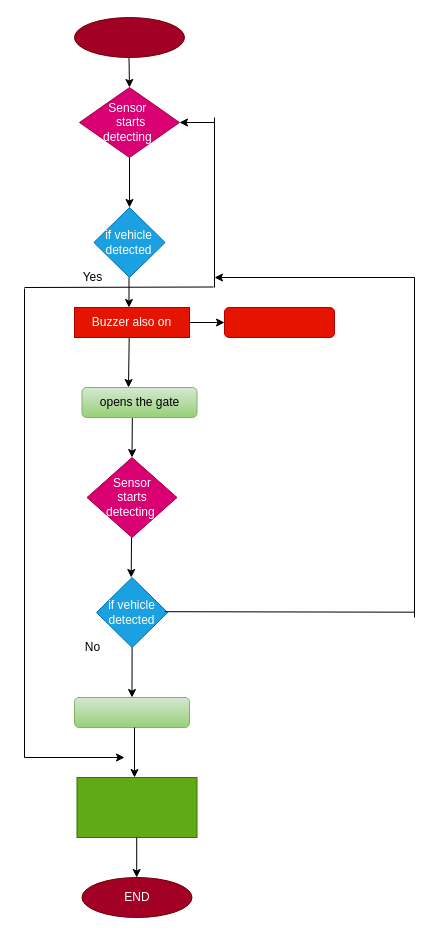
This 440x935 diagram has some shape labels left out. The shapes that lost their labels are listed below. From the top down, each one's centre as x and y in pixels, then its label:
point (129, 37): START
point (279, 322): delay is generated
point (132, 712): Closes the gate
point (136, 807): Displays the result in lcd
